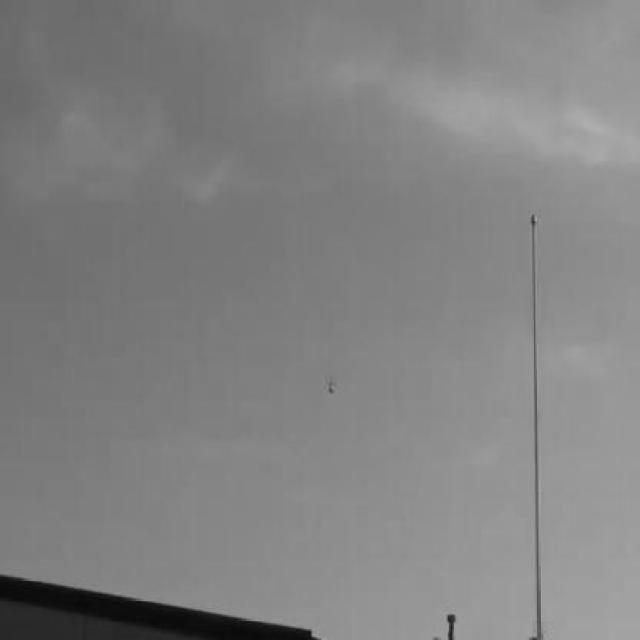helikopter: (324, 372, 338, 400)
